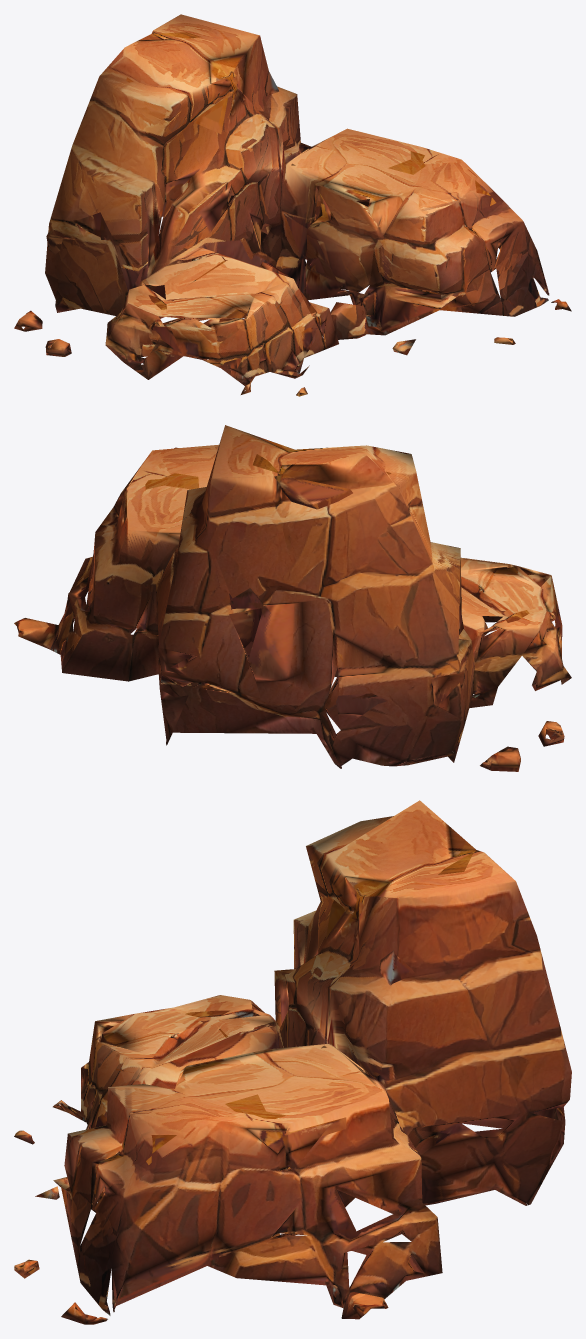
Rendered from EX_Env_RockCluster.fbx.
3 renders of one model, top to bottom at view 1: azimuth 30°, elevation 25°; view 2: azimuth 150°, elevation 25°; view 3: azimuth 270°, elevation 25°, orthographic. The views are drawn at different scales.
Parts seen in each view (by area): view 1: texture_mapping; view 2: texture_mapping; view 3: texture_mapping.
Boxes of the visible parts, bbox=[...] form: texture_mapping: bbox=[14, 14, 571, 396]; texture_mapping: bbox=[14, 425, 571, 771]; texture_mapping: bbox=[14, 800, 571, 1324].
Size of the model in its own units: 0.9857 by 0.8205 by 0.527.
Materials: 1 (1 with a texture image).
